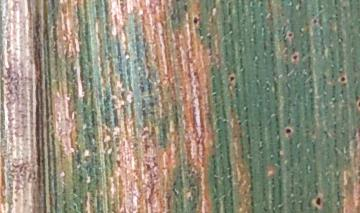tarspot: (312, 194, 323, 207), (282, 125, 293, 136), (191, 15, 200, 27), (226, 73, 236, 82), (285, 30, 295, 39), (338, 74, 347, 83), (290, 52, 299, 61), (310, 17, 318, 25), (182, 3, 189, 12), (356, 97, 360, 108)
